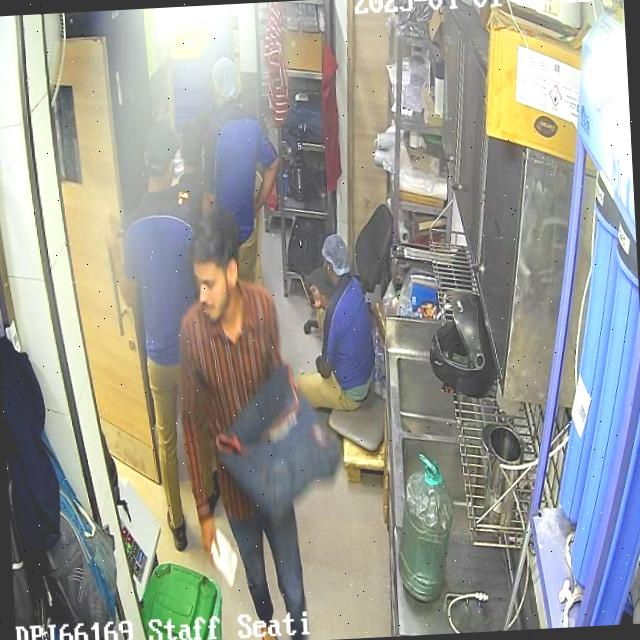helmet: (429, 290, 498, 396)
no_helmet: (188, 207, 242, 322), (321, 232, 351, 291)
